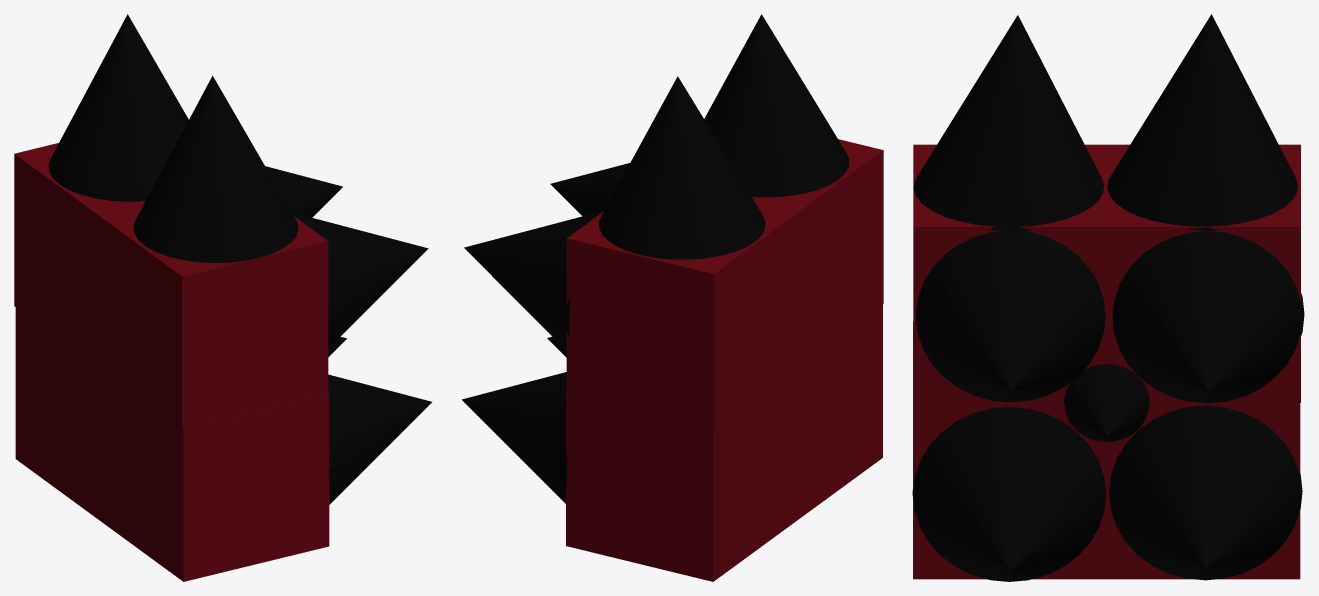
File: obstacle_1.fbx
The picture shows the model from 3 angles, left to right: view 1: azimuth 30°, elevation 25°; view 2: azimuth 150°, elevation 25°; view 3: azimuth 270°, elevation 25°; orthographic projection. The views are drawn at different scales.
Parts seen in each view (by area): view 1: Cube.002, Cube, Cone.005, Cone.004, Cube.003, Cube.001, Cone.002, Cone, Cone.003; view 2: Cube.003, Cube.001, Cone.004, Cone.005, Cube.002, Cube, Cone.003, Cone.001, Cone.002; view 3: Cone, Cone.001, Cone.003, Cone.002, Cone.005, Cone.004, Cube.003, Cube.002, Cube, Cube.001, Cone.006.
Boxes of the visible parts, box(x1,y1,x2,y2) form: Cube.002: box(98, 204, 328, 429); Cube: box(99, 369, 329, 581); Cone.005: box(133, 75, 298, 262); Cone.004: box(48, 14, 188, 201); Cube.003: box(14, 143, 145, 367); Cube.001: box(15, 307, 99, 520); Cone.002: box(292, 212, 428, 348); Cone: box(328, 374, 431, 504); Cone.003: box(265, 166, 342, 217); Cube.003: box(566, 201, 798, 428); Cube.001: box(566, 367, 797, 581); Cone.004: box(599, 76, 765, 262); Cone.005: box(704, 14, 849, 197); Cube.002: box(752, 139, 883, 365); Cube: box(798, 305, 882, 519); Cone.003: box(464, 211, 603, 350); Cone.001: box(462, 372, 567, 503); Cone.002: box(550, 163, 629, 216); Cone: box(912, 407, 1105, 581); Cone.001: box(1109, 405, 1302, 580); Cone.003: box(1112, 231, 1304, 403); Cone.002: box(916, 231, 1105, 402); Cone.005: box(913, 15, 1103, 231); Cone.004: box(1107, 14, 1297, 230); Cube.003: box(1106, 144, 1300, 402); Cube.002: box(913, 144, 1107, 402); Cube: box(913, 321, 1106, 579); Cube.001: box(1106, 403, 1300, 579); Cone.006: box(1063, 364, 1149, 441).
Size of the model in its own units: 400 by 599 by 404.
